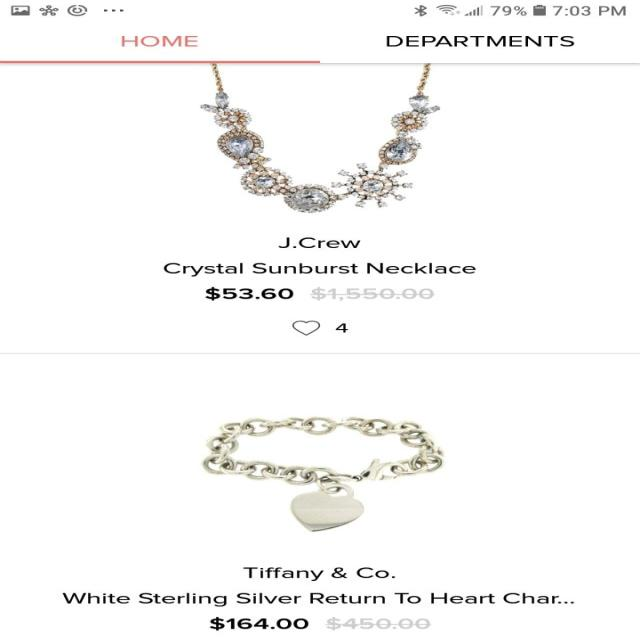Icon: (292, 320, 321, 336)
Image: (200, 63, 440, 213), (202, 416, 446, 532)
Text: (62, 592, 574, 606), (162, 262, 476, 276), (205, 287, 435, 301), (209, 616, 431, 630), (384, 36, 574, 48), (242, 566, 394, 581), (278, 236, 360, 248), (120, 36, 198, 48), (334, 323, 348, 333)
